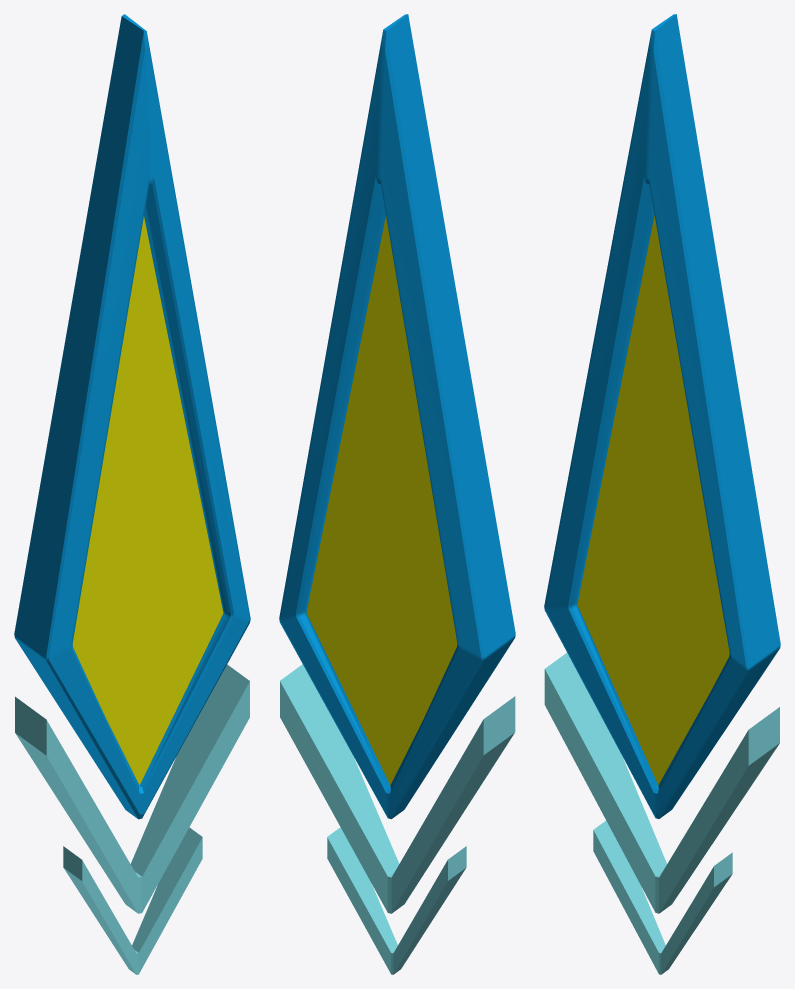
The model's file is Arrow.fbx.
3 views of the same model, side by side, from view 1: azimuth 30°, elevation 25°; view 2: azimuth 150°, elevation 25°; view 3: azimuth 330°, elevation 25° (orthographic).
Parts seen in each view (by area): view 1: polySurface2; view 2: polySurface2; view 3: polySurface2.
Part boxes in pixels (bbox=[...]): polySurface2: bbox=[14, 14, 250, 974]; polySurface2: bbox=[279, 14, 515, 974]; polySurface2: bbox=[544, 14, 780, 974].
Size of the model in its own units: 1.47 by 6.51 by 0.4315.
